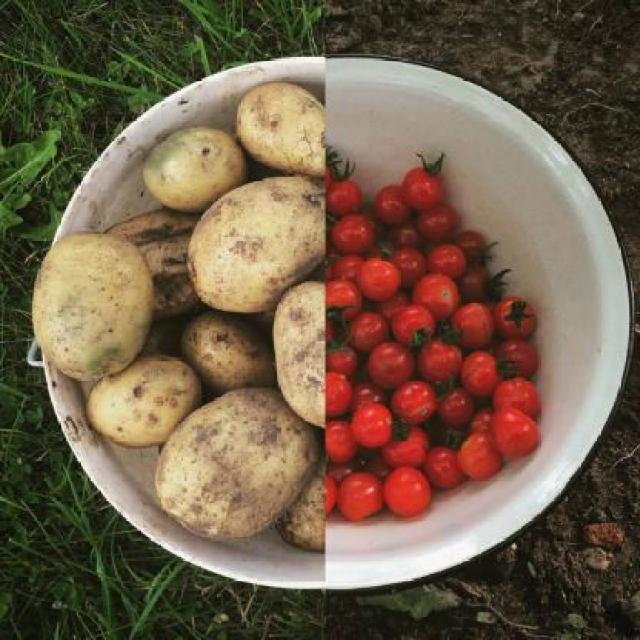Potato: (31, 230, 155, 382)
